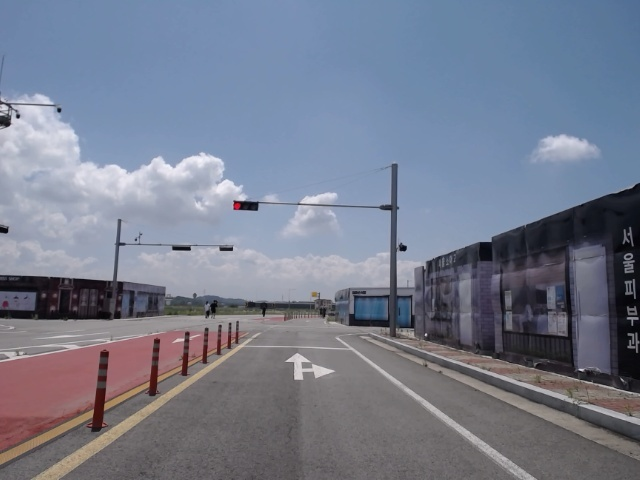red_3: (232, 200, 260, 212)
